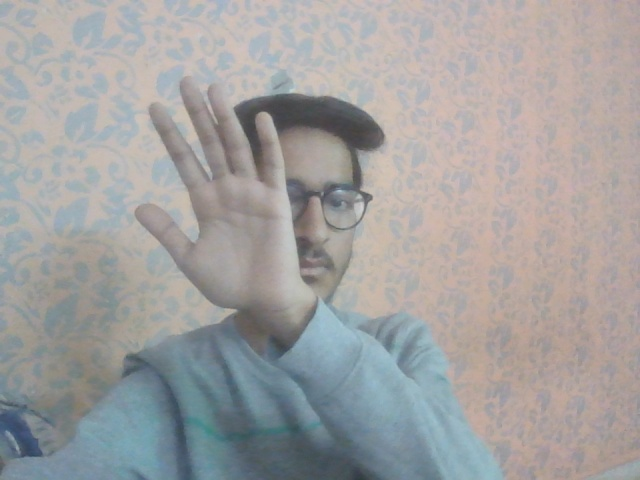Hello: (132, 73, 311, 323)
